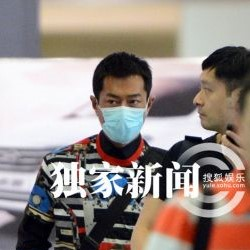mask: (89, 95, 148, 145)
